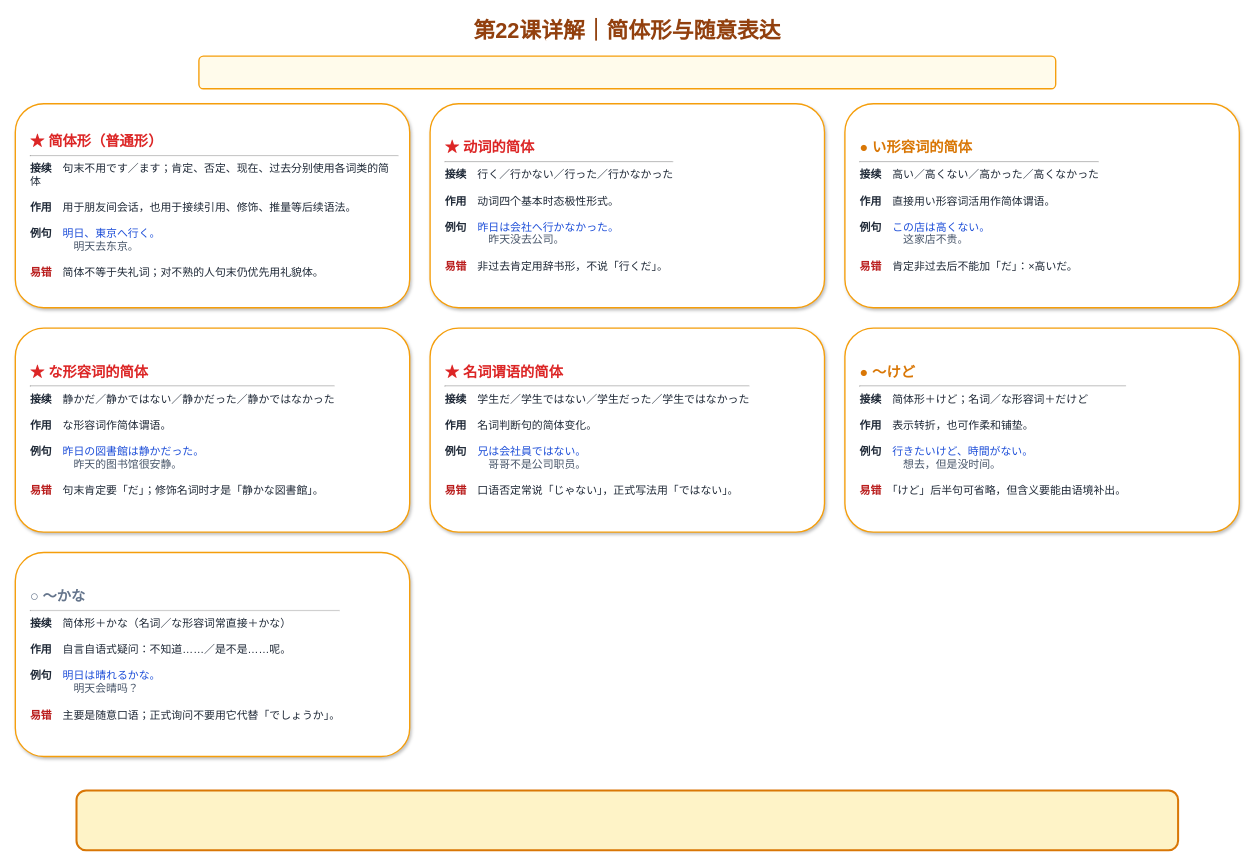
Image size: 1255x863. Some labels were removed from this diagram. Here are the shapes that lost their labels. From the top down, the centre of each, then its label:
the point at 627,72: 本课目标：建立动词、形容词、名词谓语的简体体系，并能接「けど／かな」。
the point at 627,820: 本课结构关系 四类词的简体变化 → 能接「けど」表示转折，也能接「かな」表示自问。 最低掌握标准 不看表说出四类词的现在／过去、肯定／否定，并完成一次简体对话。
